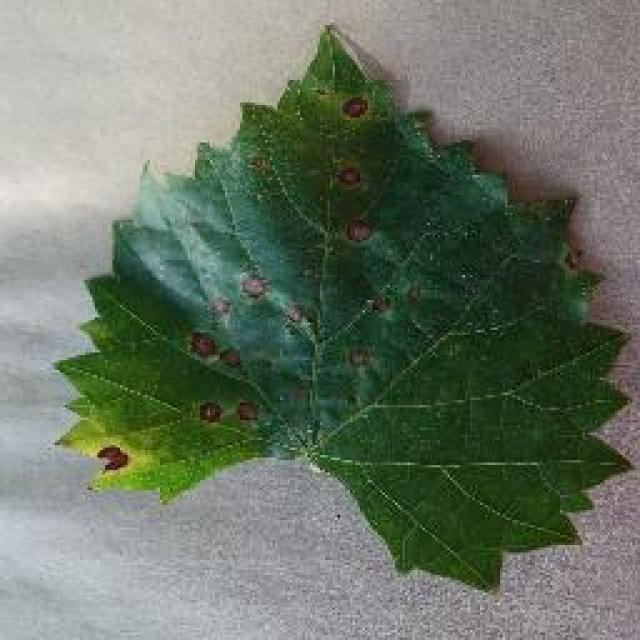Grape___Black_rot: (34, 22, 638, 596)
